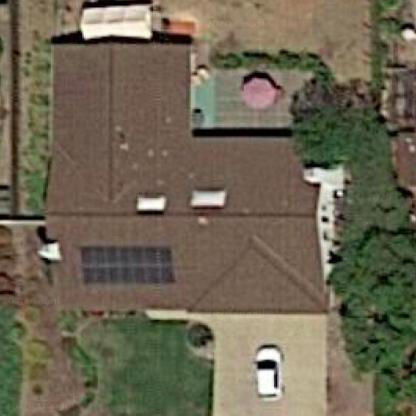car: (248, 333, 290, 406)
solar_panel: (71, 237, 184, 294)
